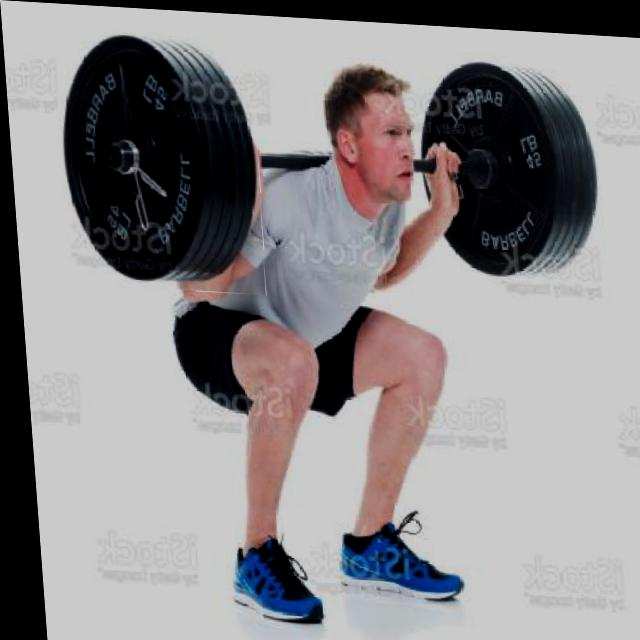barbell: (48, 21, 266, 293)
